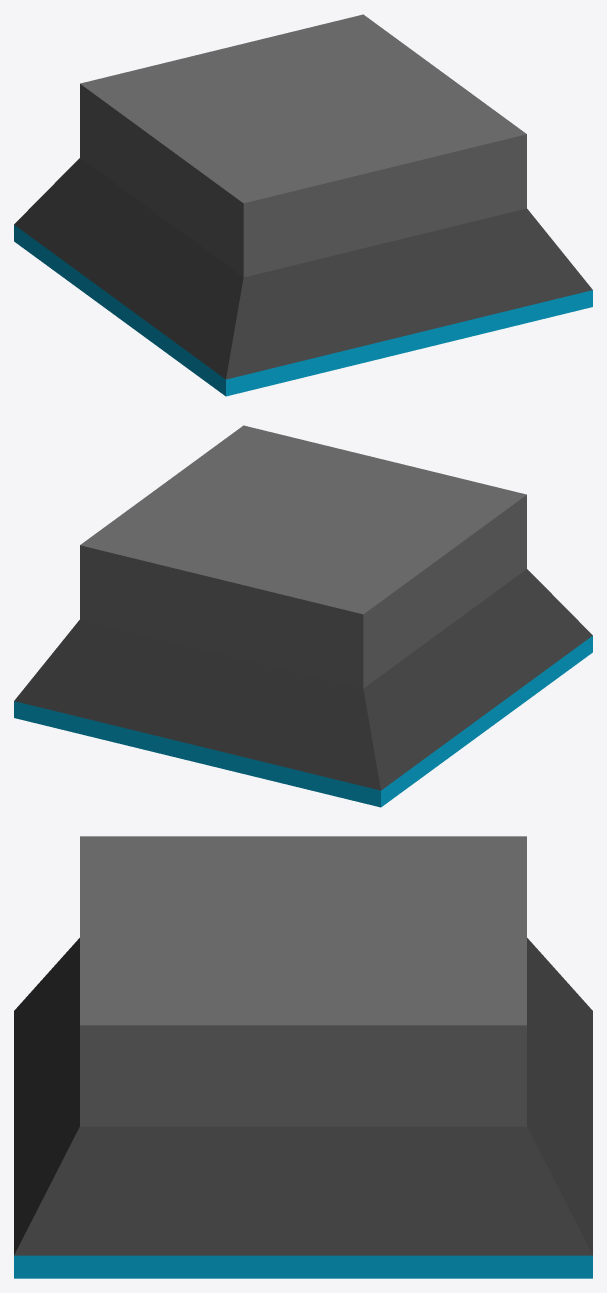
Rendered from FallingPlatform.fbx.
The picture shows the model from 3 angles, top to bottom: view 1: azimuth 30°, elevation 25°; view 2: azimuth 150°, elevation 25°; view 3: azimuth 270°, elevation 25°; orthographic projection. The views are drawn at different scales.
Visible parts, largest first — view 1: Cube; view 2: Cube; view 3: Cube.
Part boxes in pixels (x1,y1,x2,y2): Cube: (14,14,592,396); Cube: (14,425,592,807); Cube: (14,836,592,1278).
Size of the model in its own units: 518 by 223 by 518.
